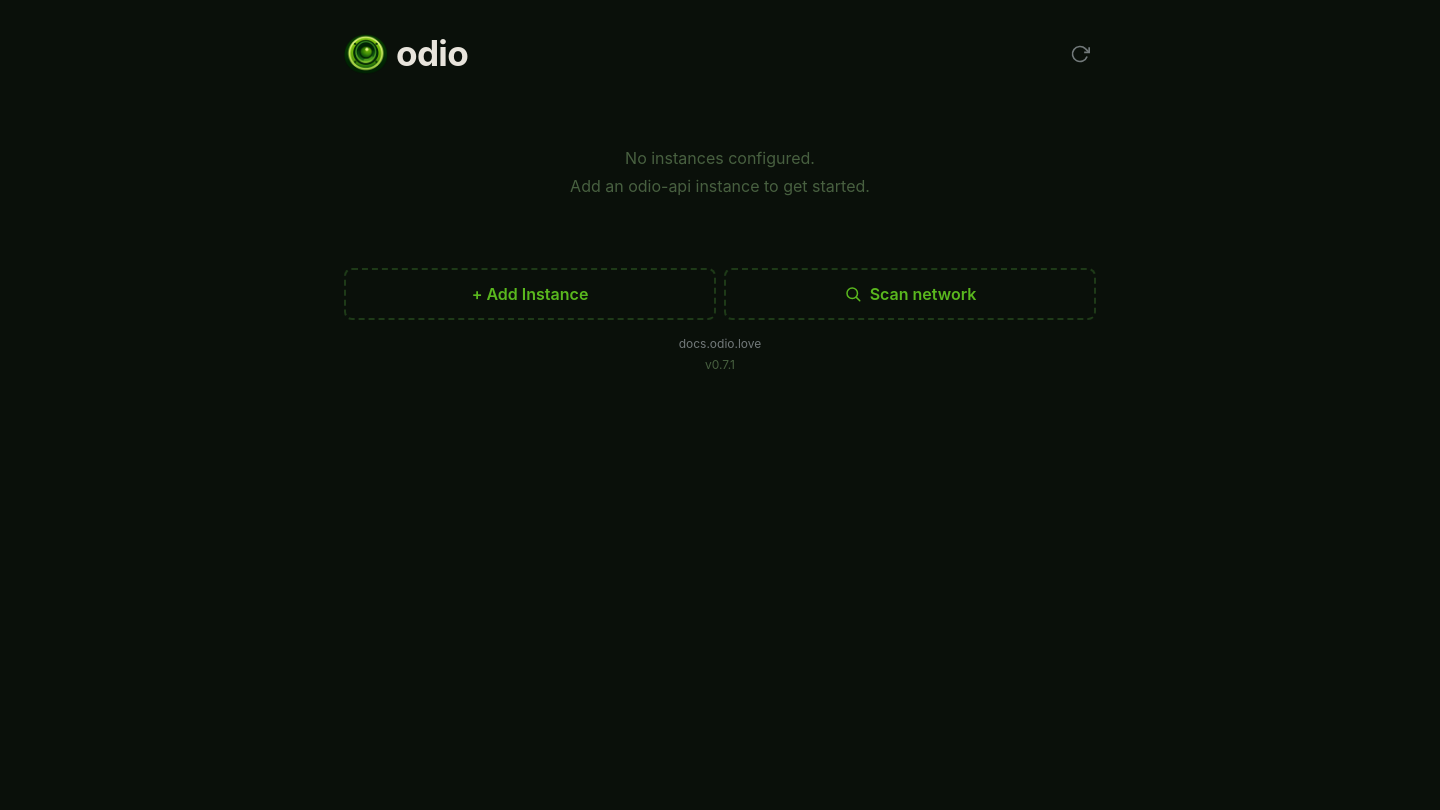
Test: InstanceList — scan network › "Scan network" opens the scan modal, closing it removes it
What coordinates should you click on to do the following:
click the button "Scan network"
I would click on:
 (910, 294)
Its box is [724,268,1096,320].
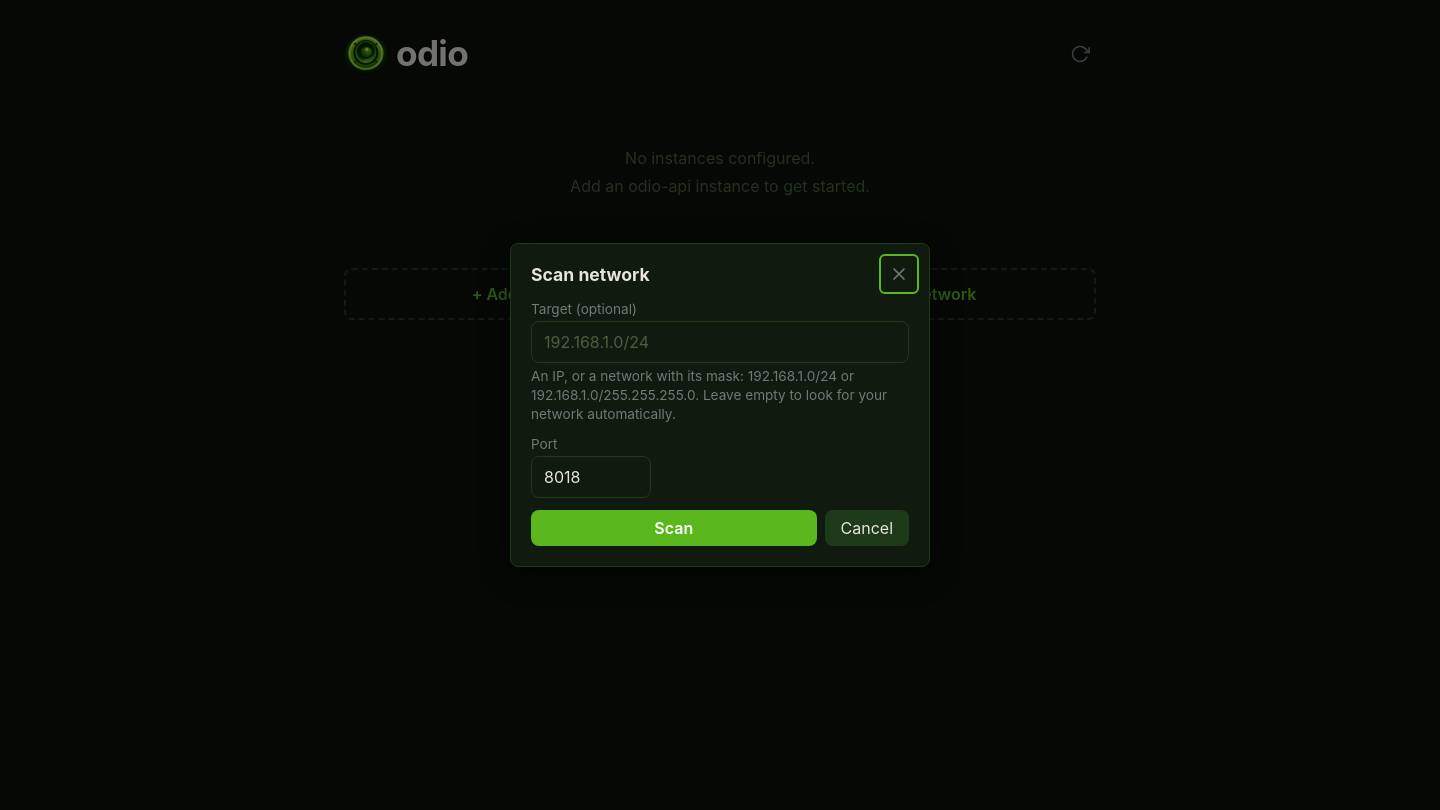
Now the dialog "Scan network" is shown, box [510,243,930,567]
What coordinates should you click on to do the following:
click the button named "Close"
I would click on:
 (899, 274)
Its box is [883,258,915,290].
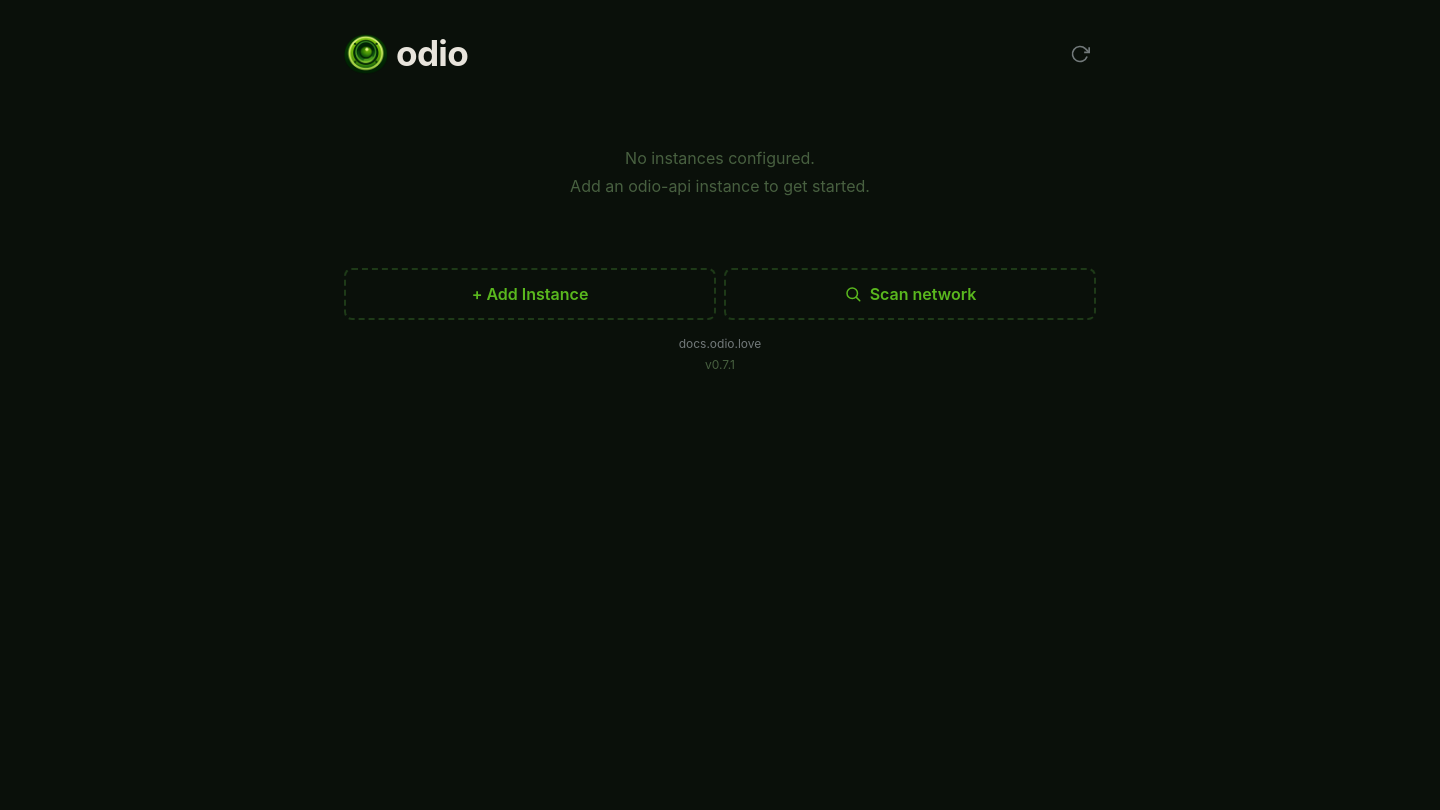
Now the dialog is gone
